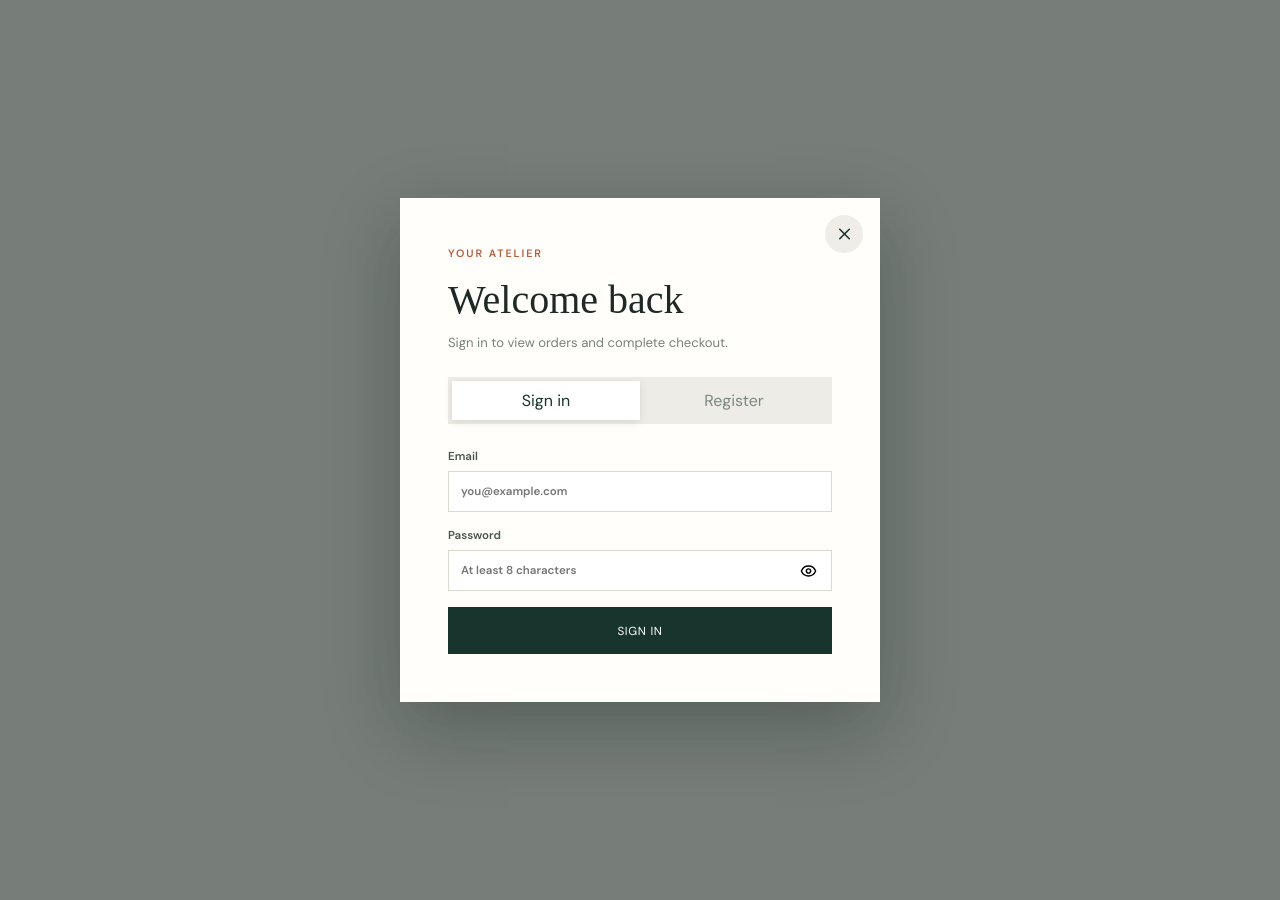
it: commerce interface › switches to registration mode
Click the button "Register" at (734, 401), box [640,381,828,420]
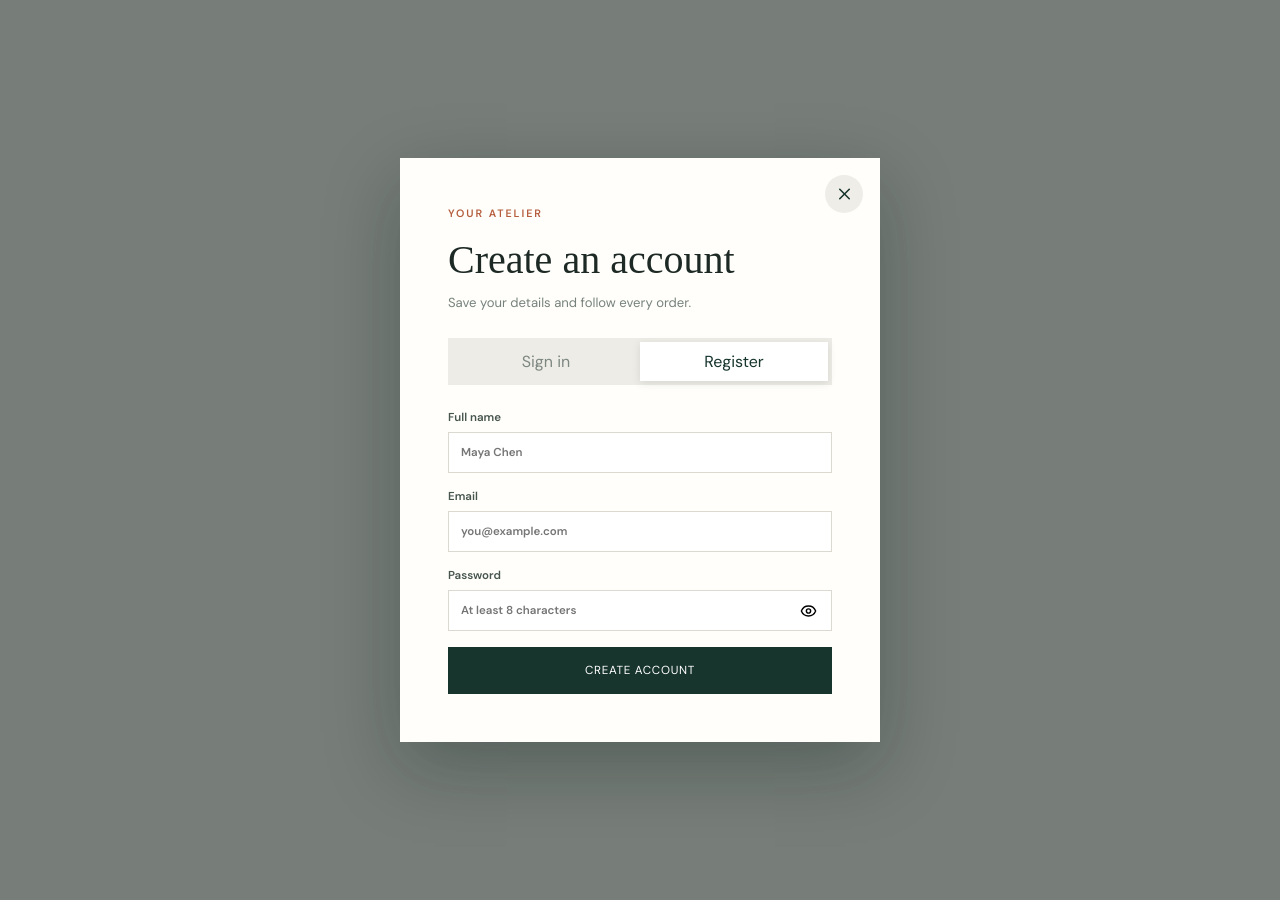
Expected: the field labelled "Full name" is shown, [448,432,832,473]
Expected: the heading "Create an account" is shown, [448,237,734,282]
